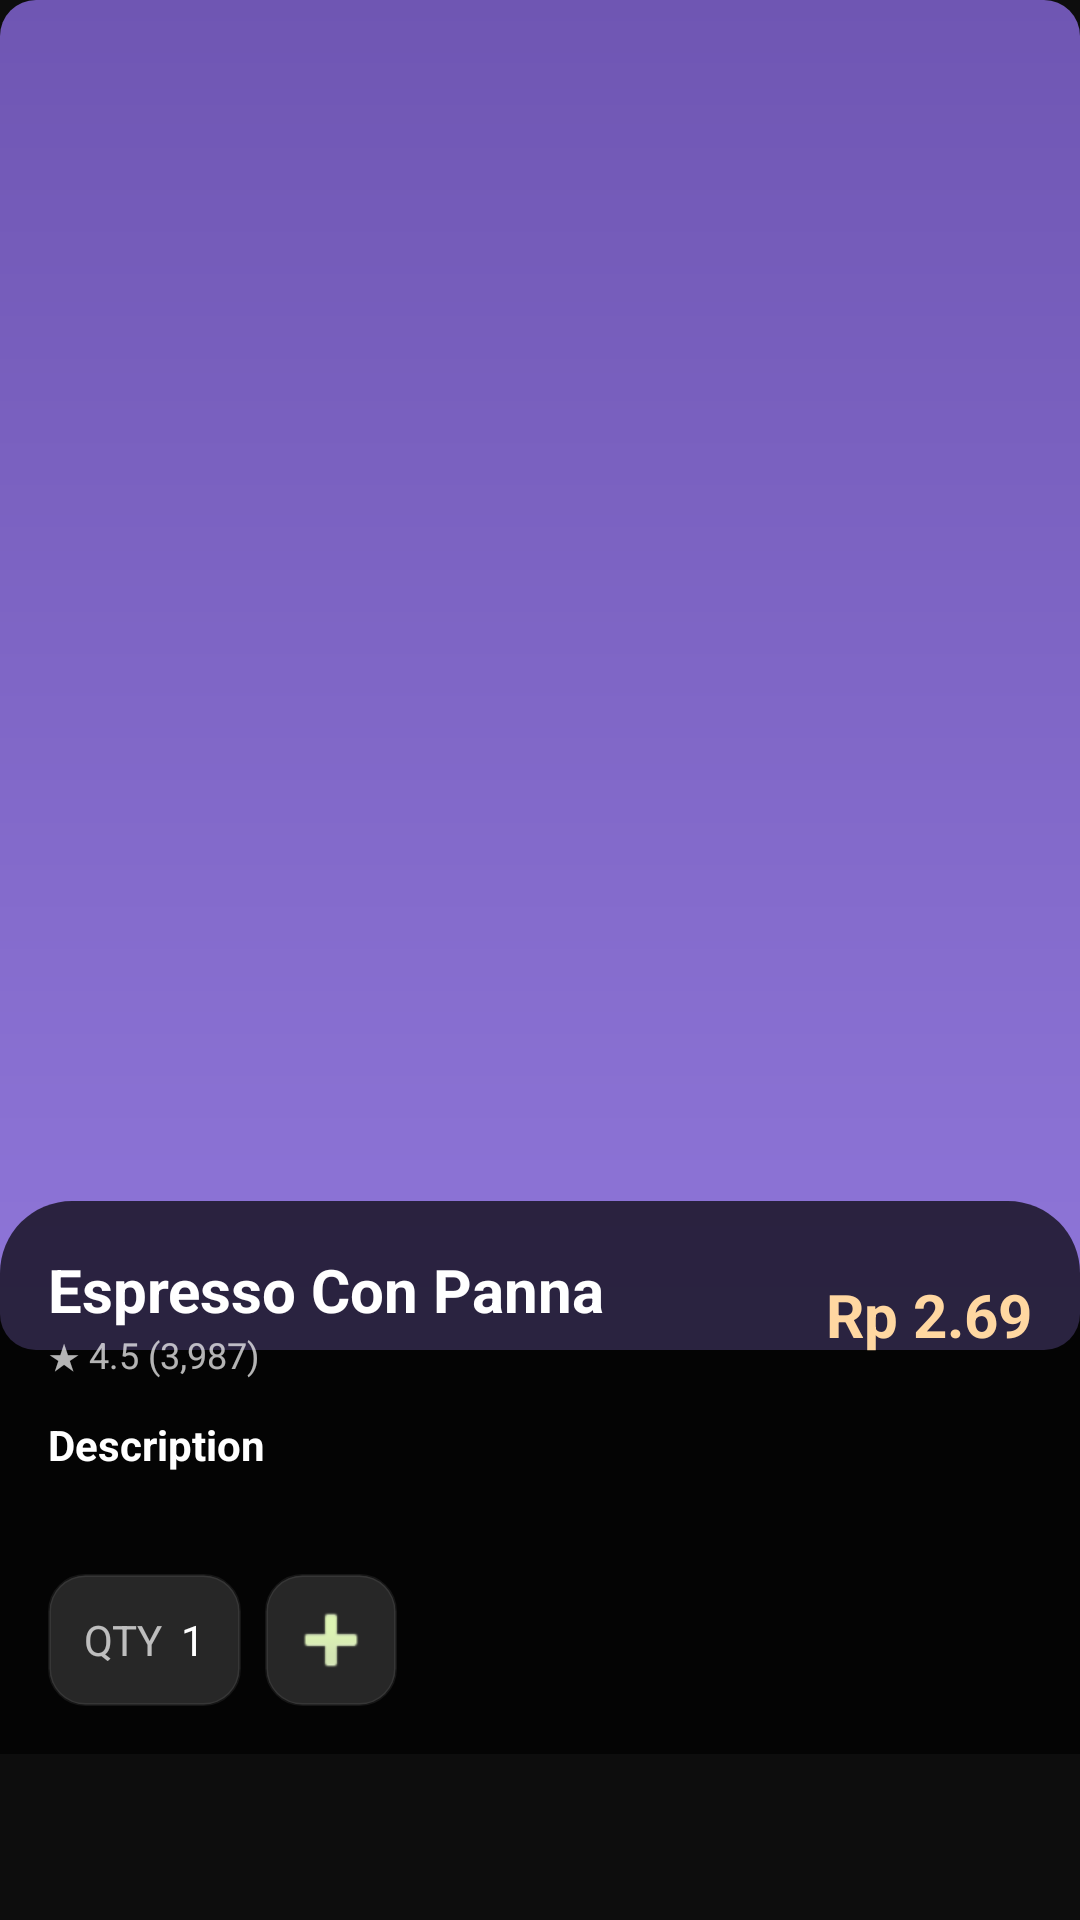

Screen size 1080 x 1920. Icon name, then its box in pixels as (x1, y1, x2, y2):
add: (266, 1575, 396, 1705)
